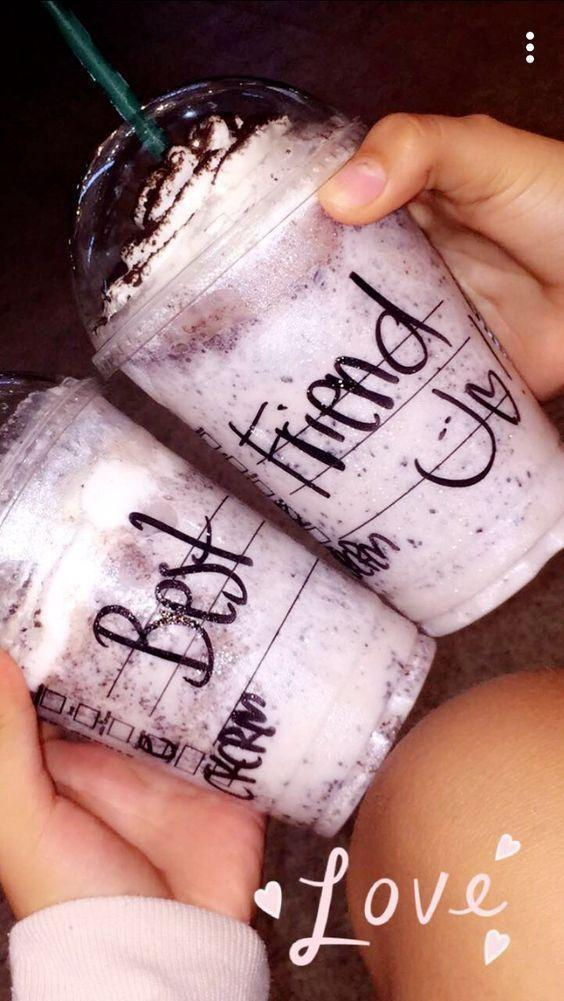cup-disposable: (68, 74, 562, 628), (1, 376, 440, 841)
